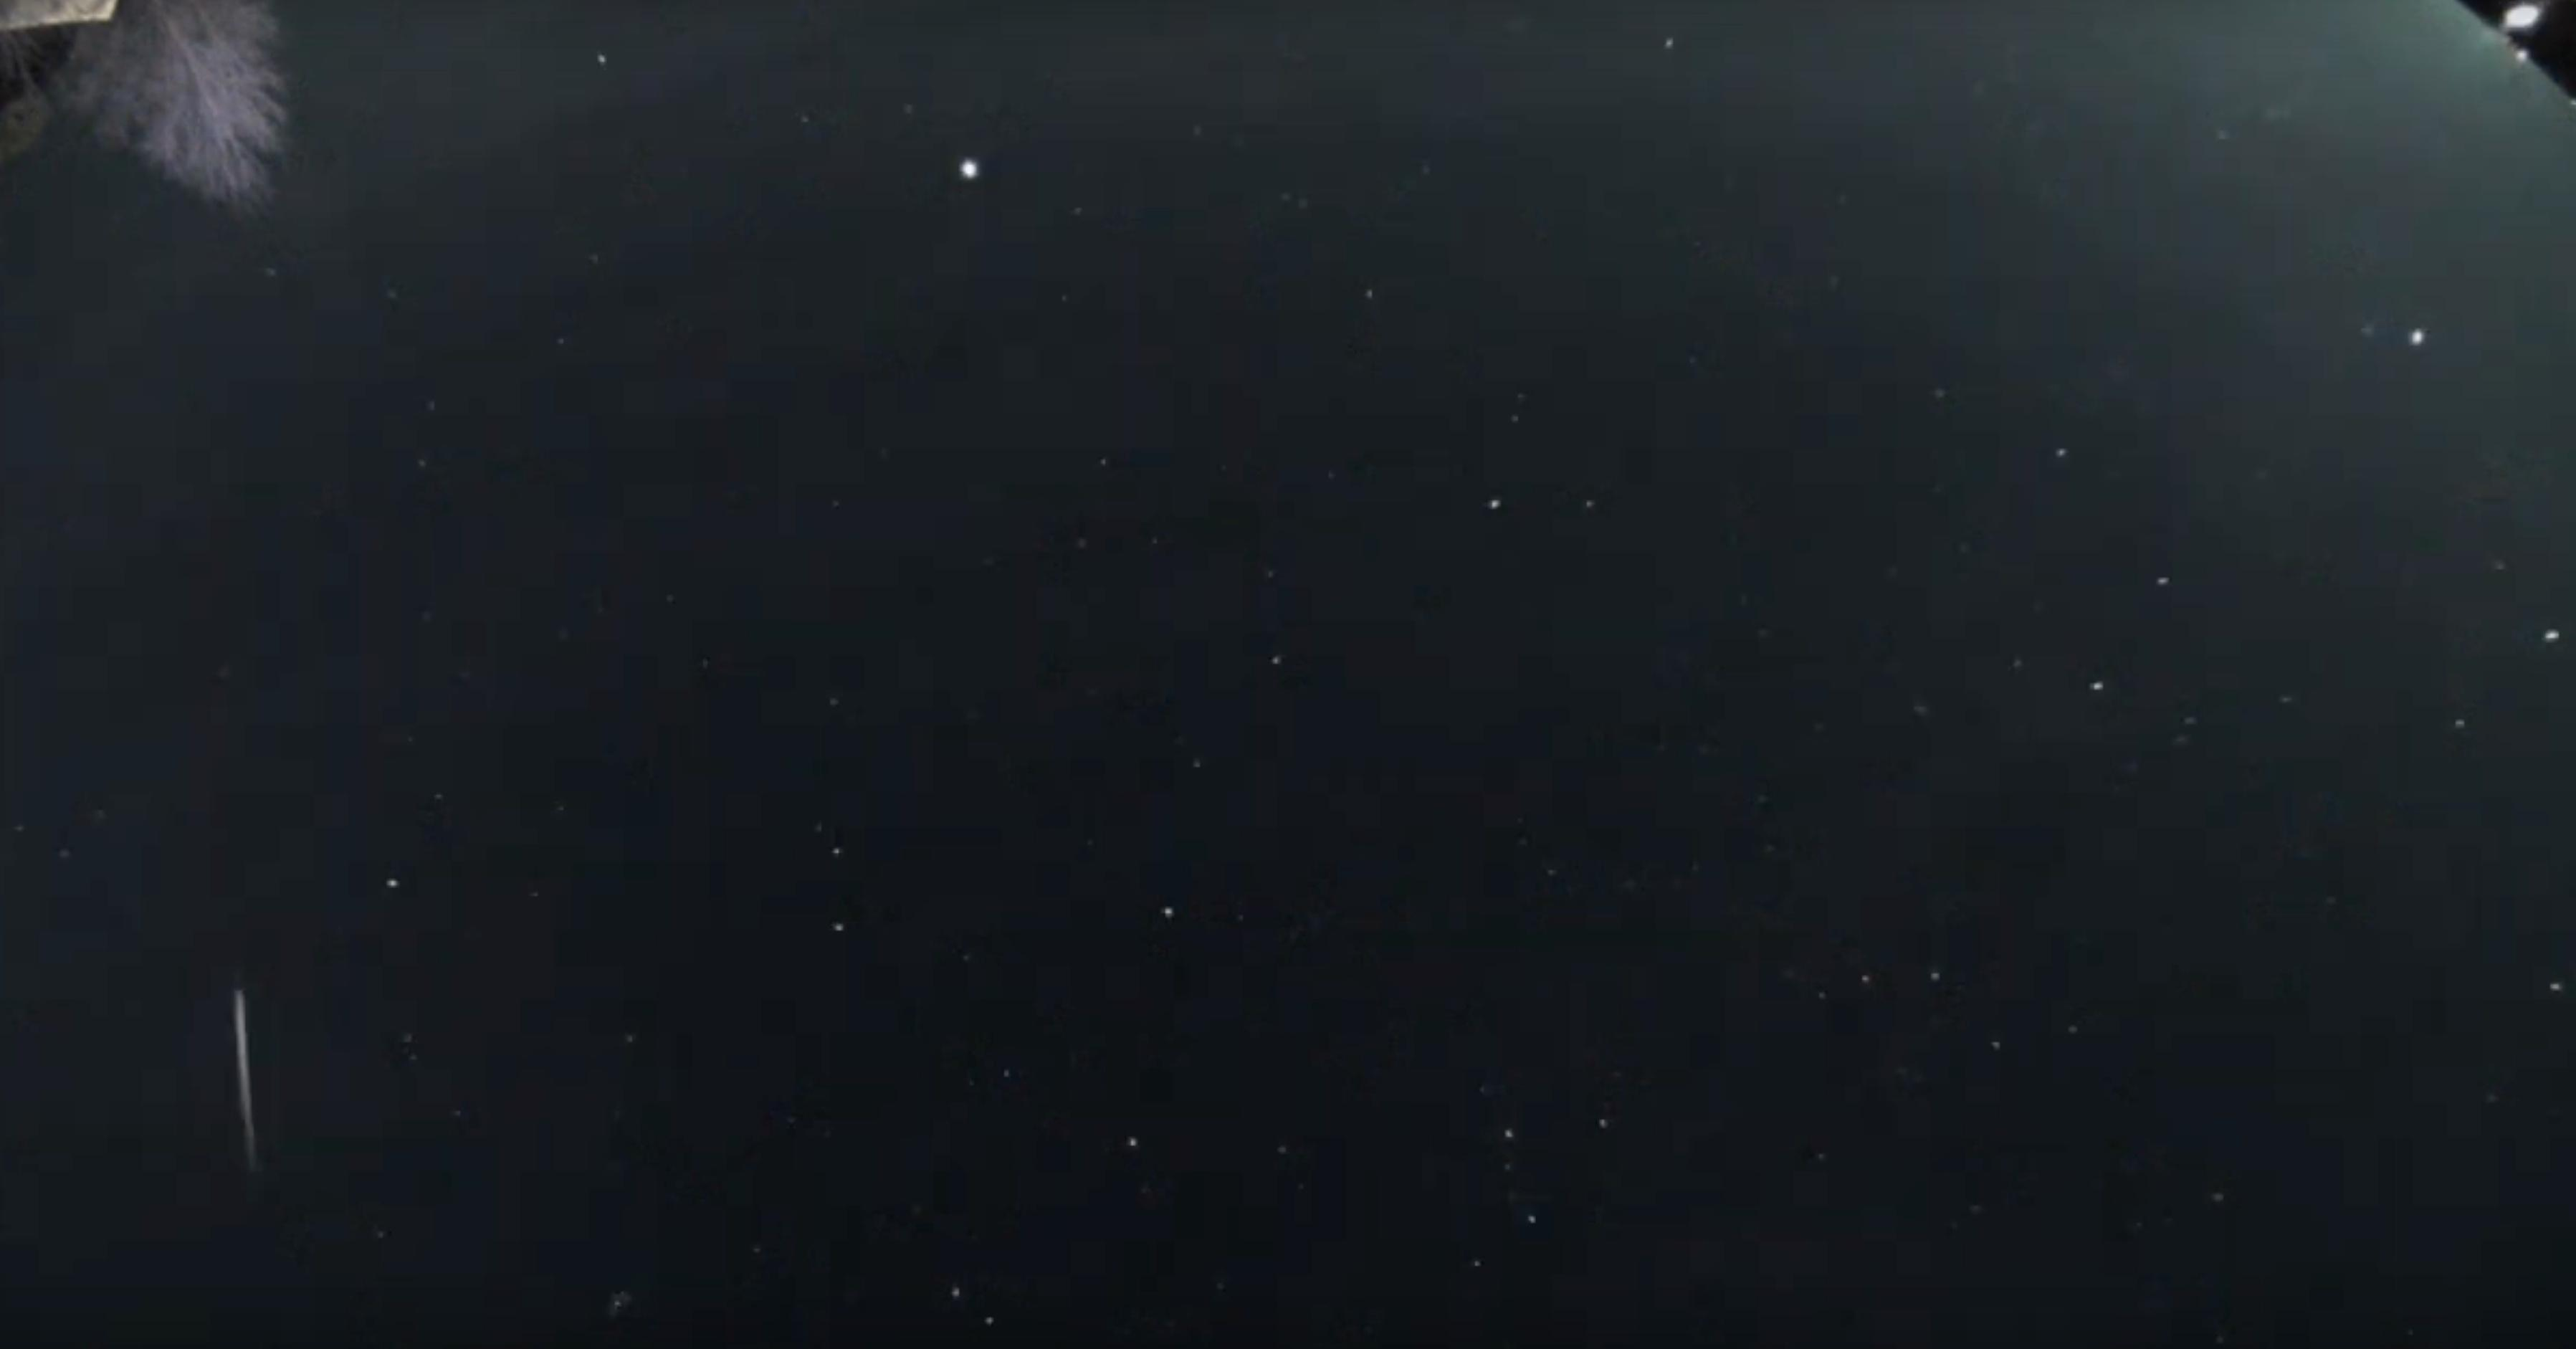Plane: (595, 1286, 654, 1340)
meteorite: (187, 930, 303, 1168)
